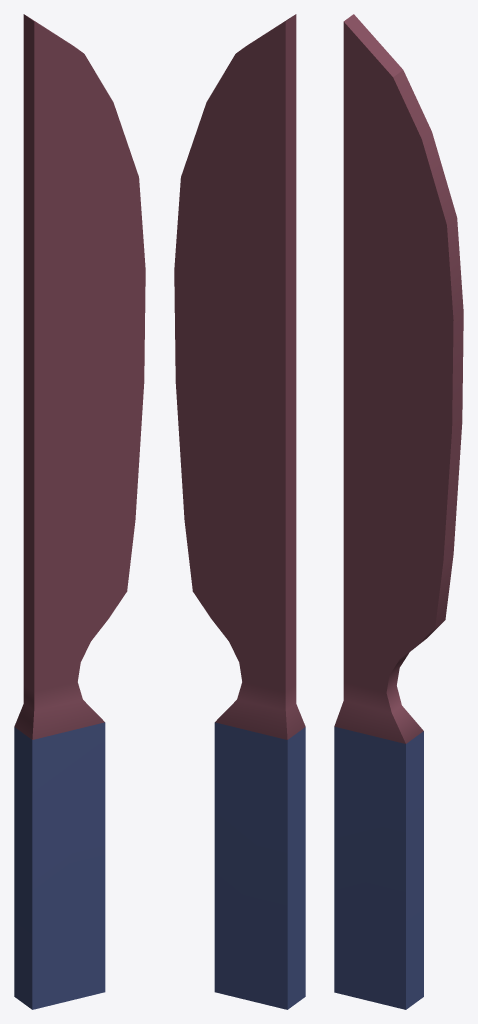
The model's file is knife.fbx.
The picture shows the model from 3 angles, left to right: view 1: azimuth 30°, elevation 25°; view 2: azimuth 150°, elevation 25°; view 3: azimuth 330°, elevation 25°; orthographic projection.
Visible parts, largest first — view 1: knife; view 2: knife; view 3: knife.
Part boxes in pixels (left/top/right/bottom): knife: left=14, top=14, right=145, bottom=1009; knife: left=174, top=14, right=305, bottom=1009; knife: left=334, top=14, right=463, bottom=1009.
Bounding box in the file's own units: 0.0545 × 0.4376 × 0.0146.
